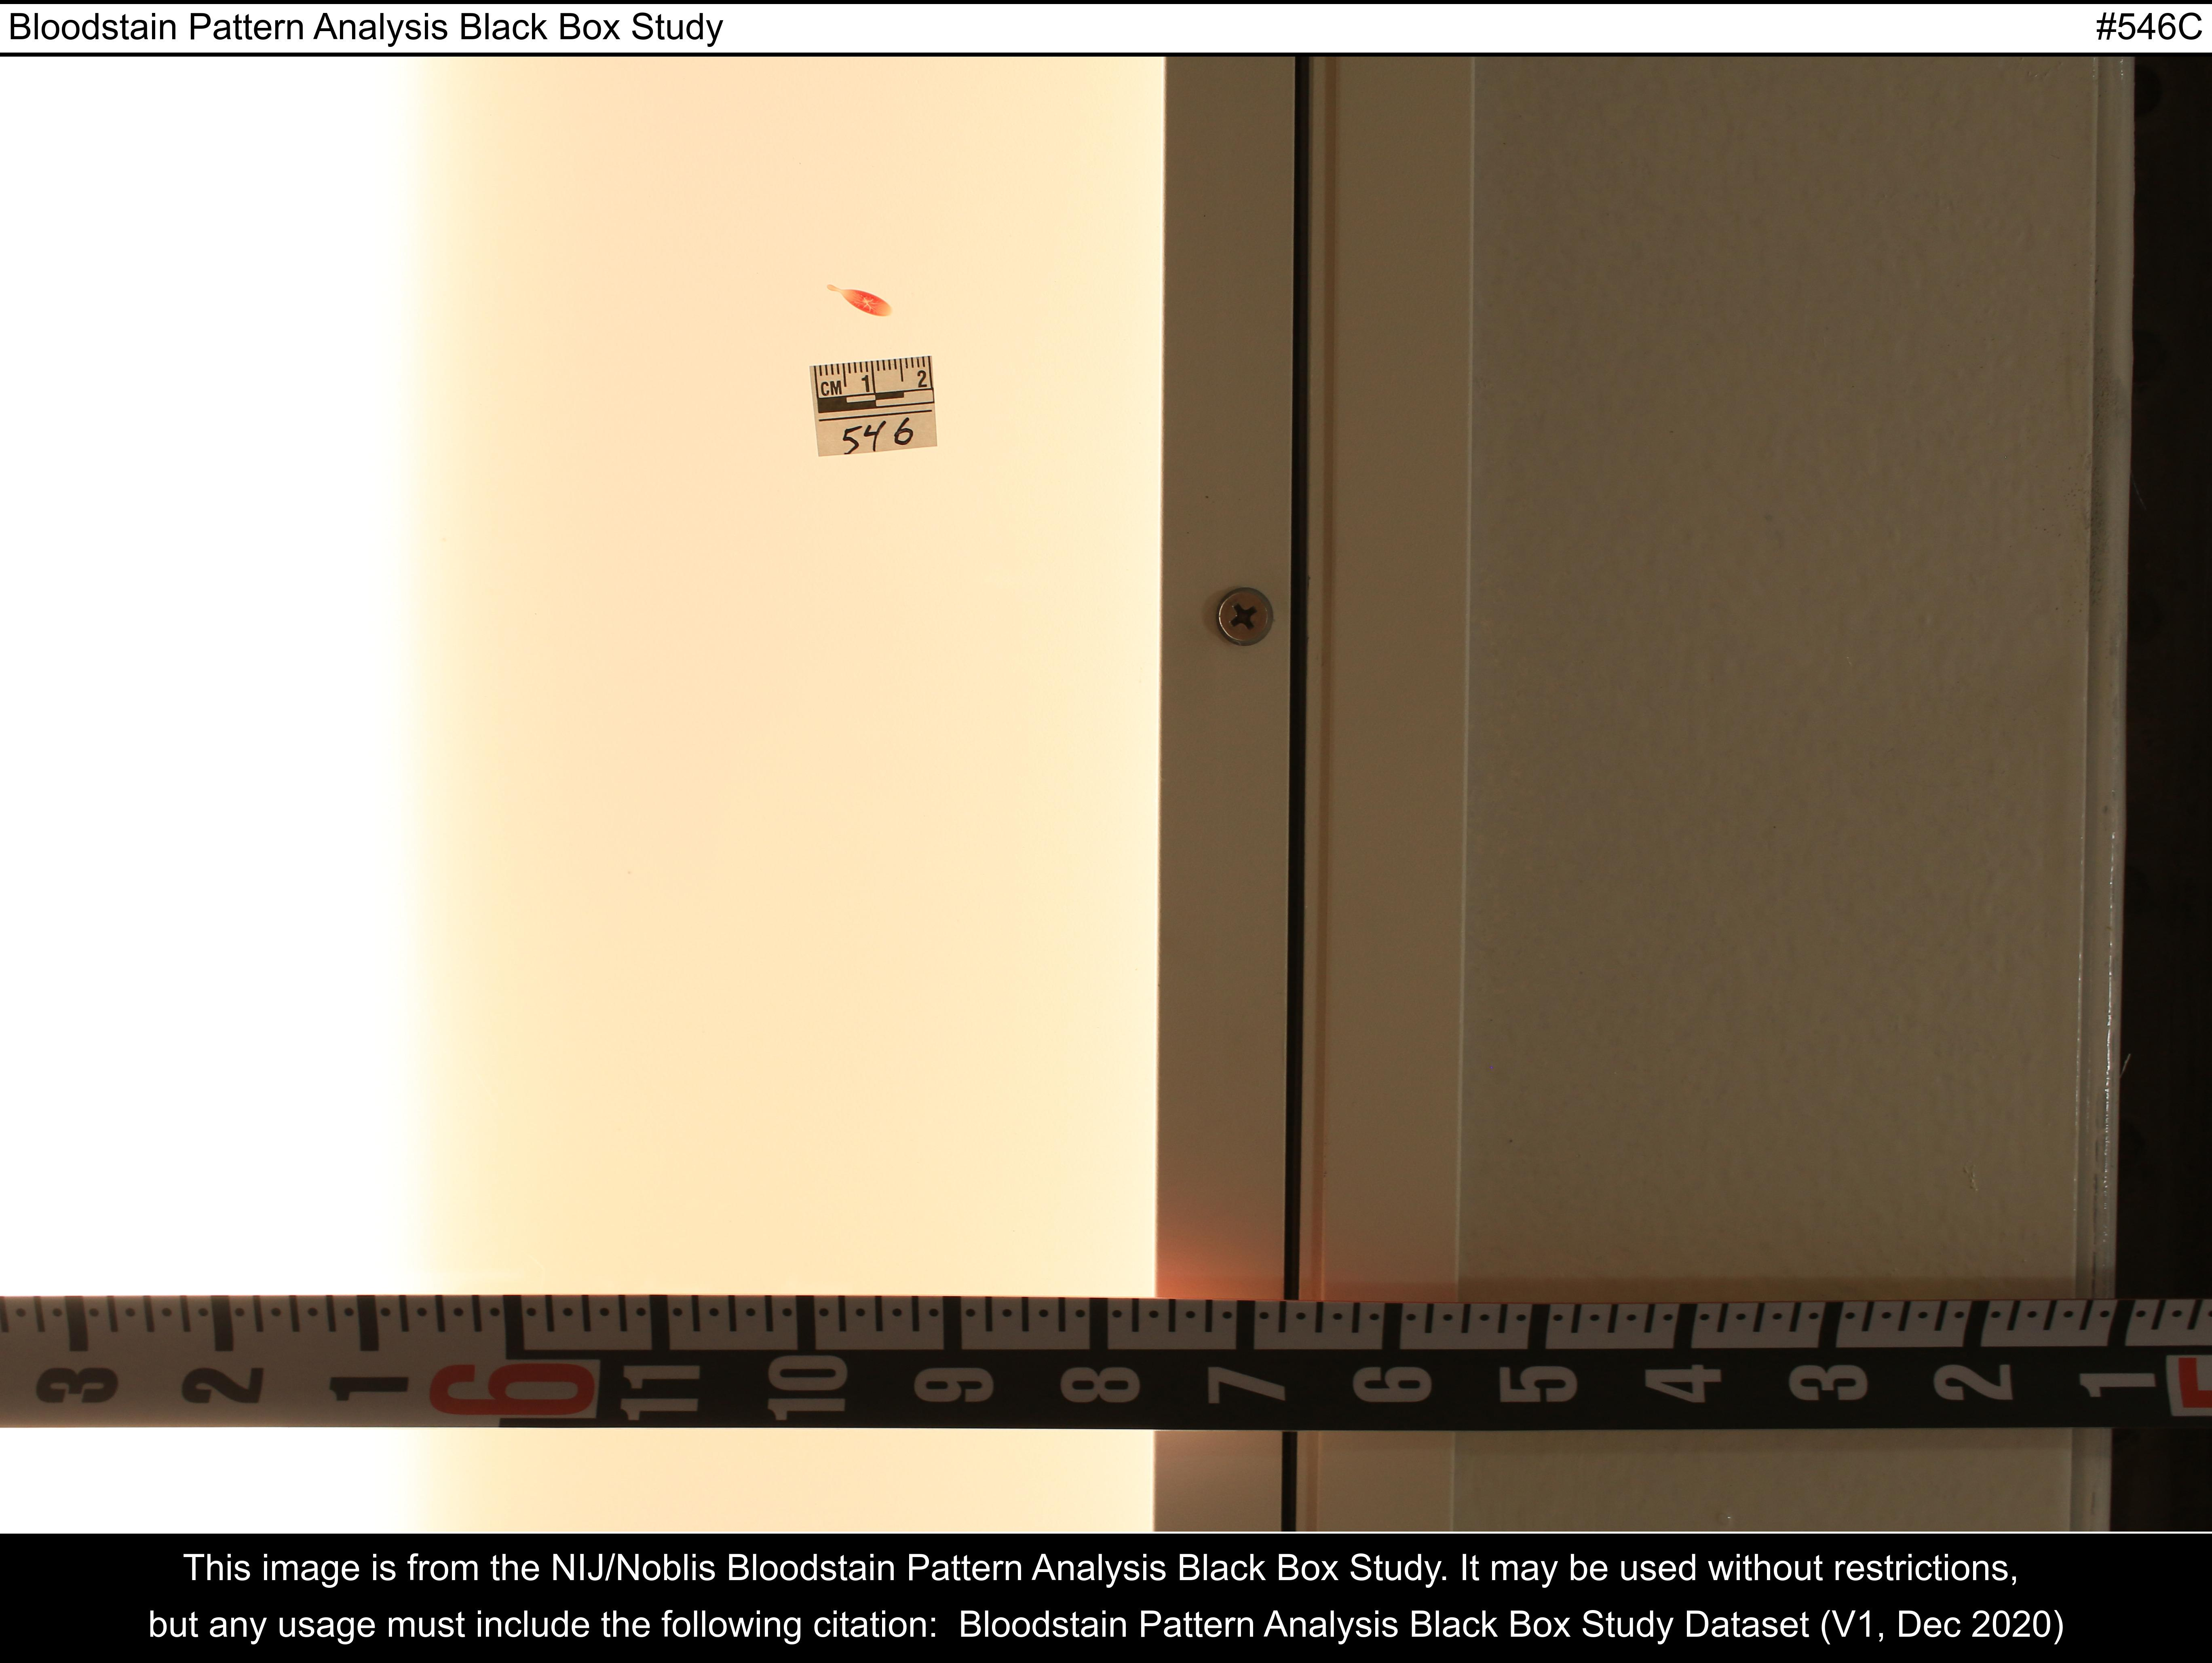Transfer: (777, 241, 972, 355)
